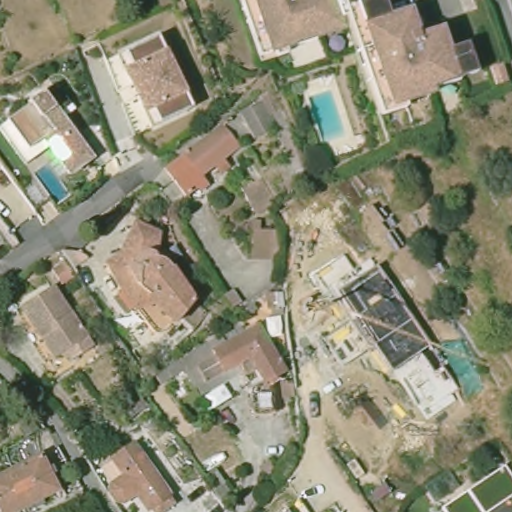pool: (304, 87, 352, 147), (32, 160, 74, 207)
